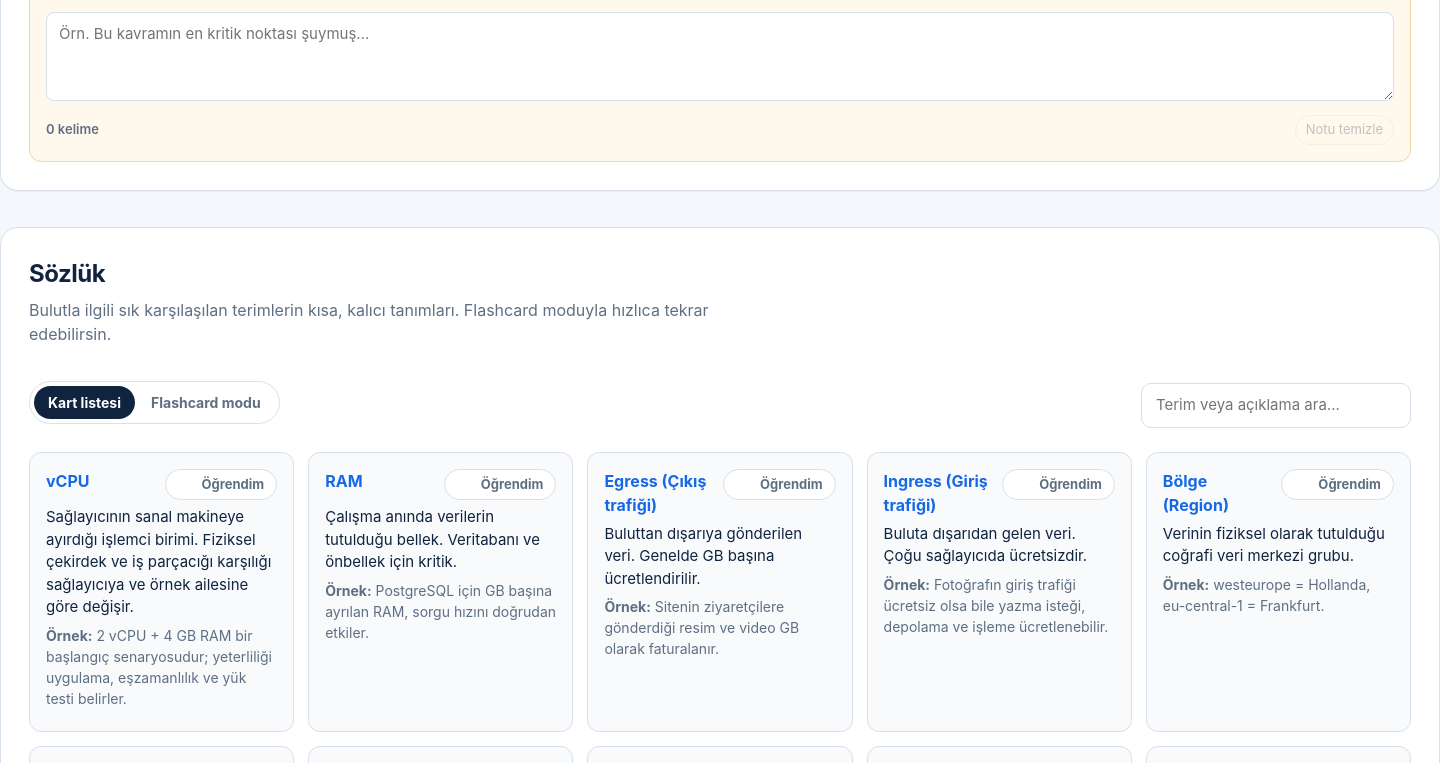
it: Education › filters glossary entries by search term
This screenshot has width=1440, height=763.
(page scrolled)
Expected: the heading "Egress (Çıkış trafiği)" is shown, 604,469 -> 711,517
In the search field with test id "glossary-search": (1276, 405) 1141,383 -> 1411,428, type "egress"
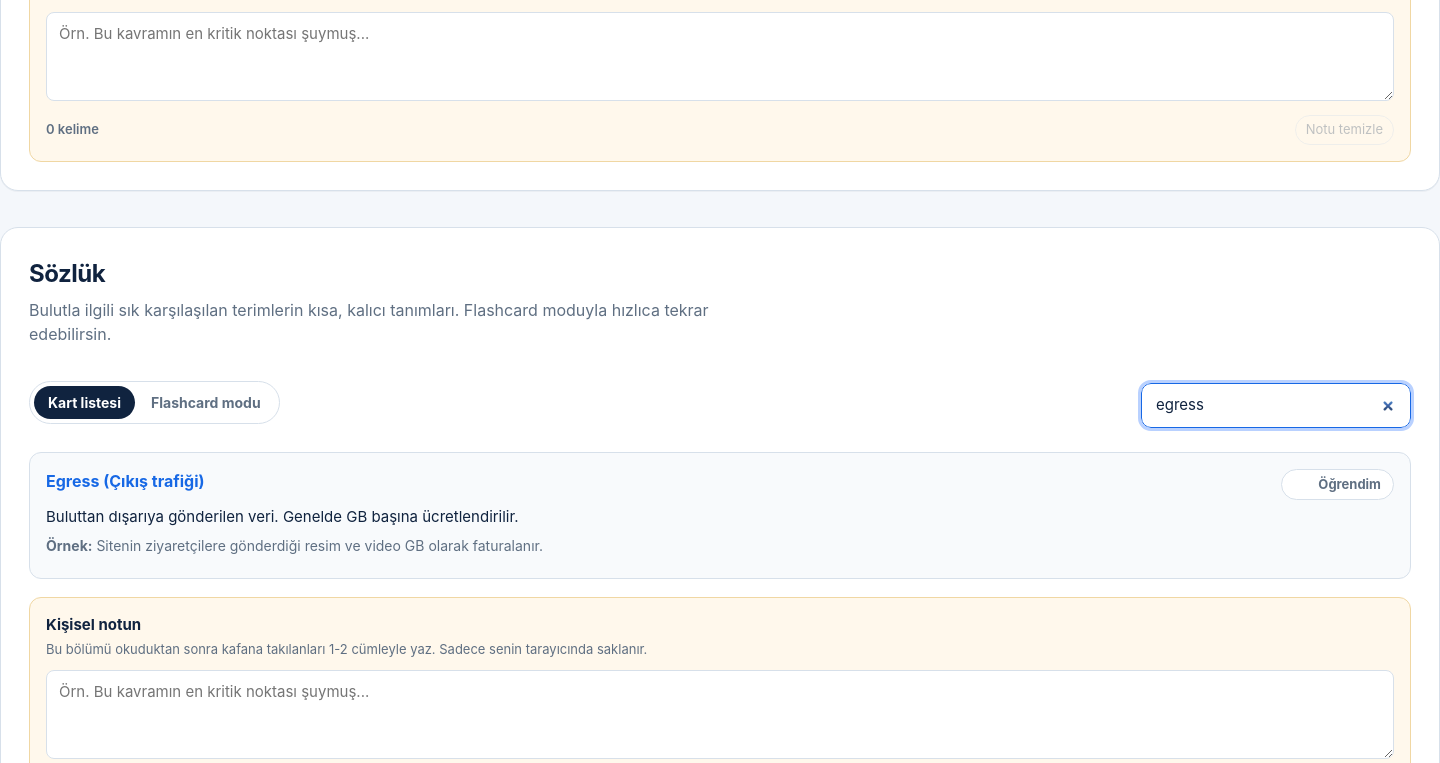
Expected: the heading "Egress (Çıkış trafiği)" is shown, 46,469 -> 204,493
Expected: the text "vCPU" is not shown
Clear the search field with test id "glossary-search": (1276, 405) 1141,383 -> 1411,428
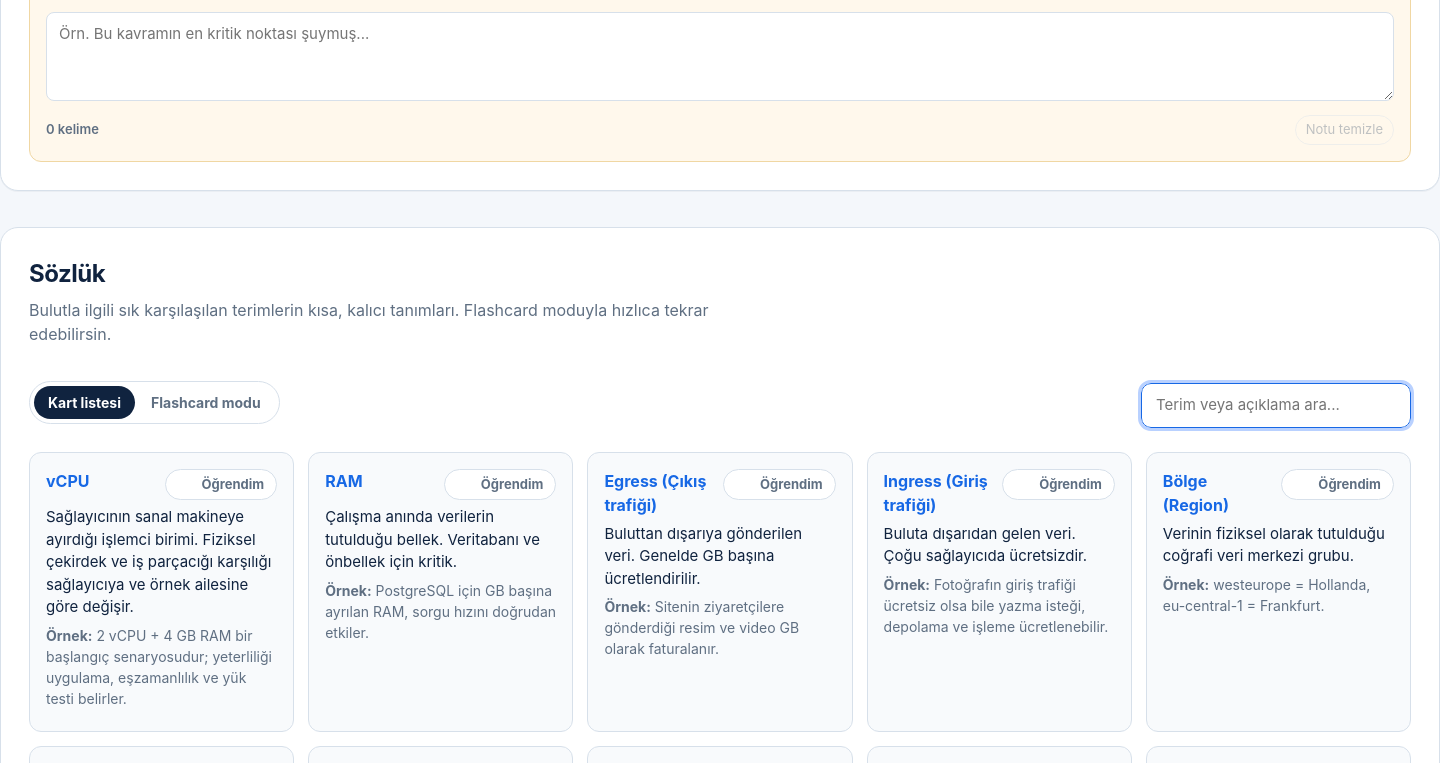
Expected: the heading "vCPU" is shown, 46,469 -> 90,493
